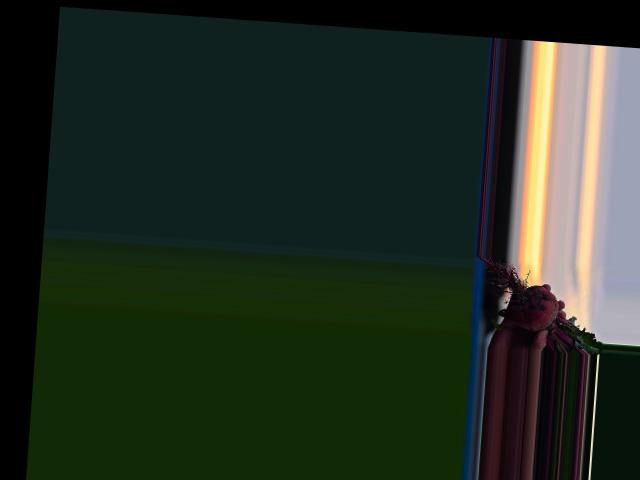beet: (471, 255, 608, 355)
